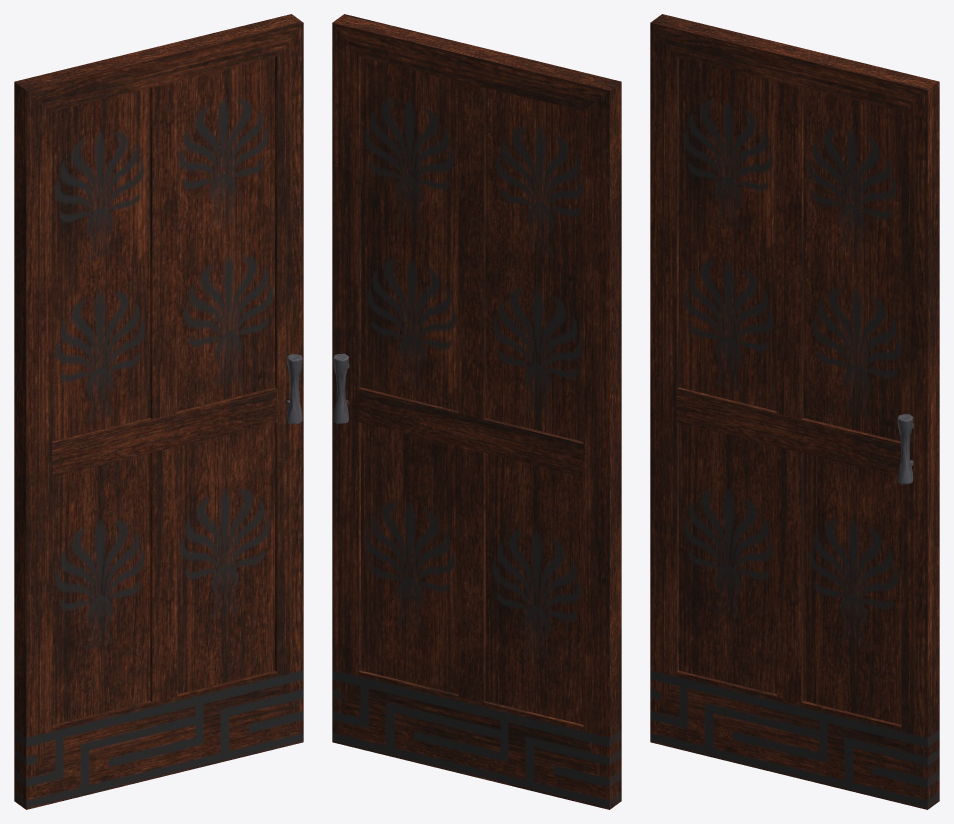
The model's file is roman_door_free.glb.
3 renders of one model, left to right at view 1: azimuth 30°, elevation 25°; view 2: azimuth 150°, elevation 25°; view 3: azimuth 330°, elevation 25°, orthographic.
Visible parts, largest first — view 1: RomanDoor; view 2: RomanDoor; view 3: RomanDoor.
Part boxes in pixels (left/top/right/bottom): RomanDoor: left=14, top=14, right=303, bottom=809; RomanDoor: left=332, top=14, right=621, bottom=809; RomanDoor: left=650, top=14, right=939, bottom=809.
Bounding box in the file's own units: 73.81 × 183 × 15.49.
1 material, 1 textured.
